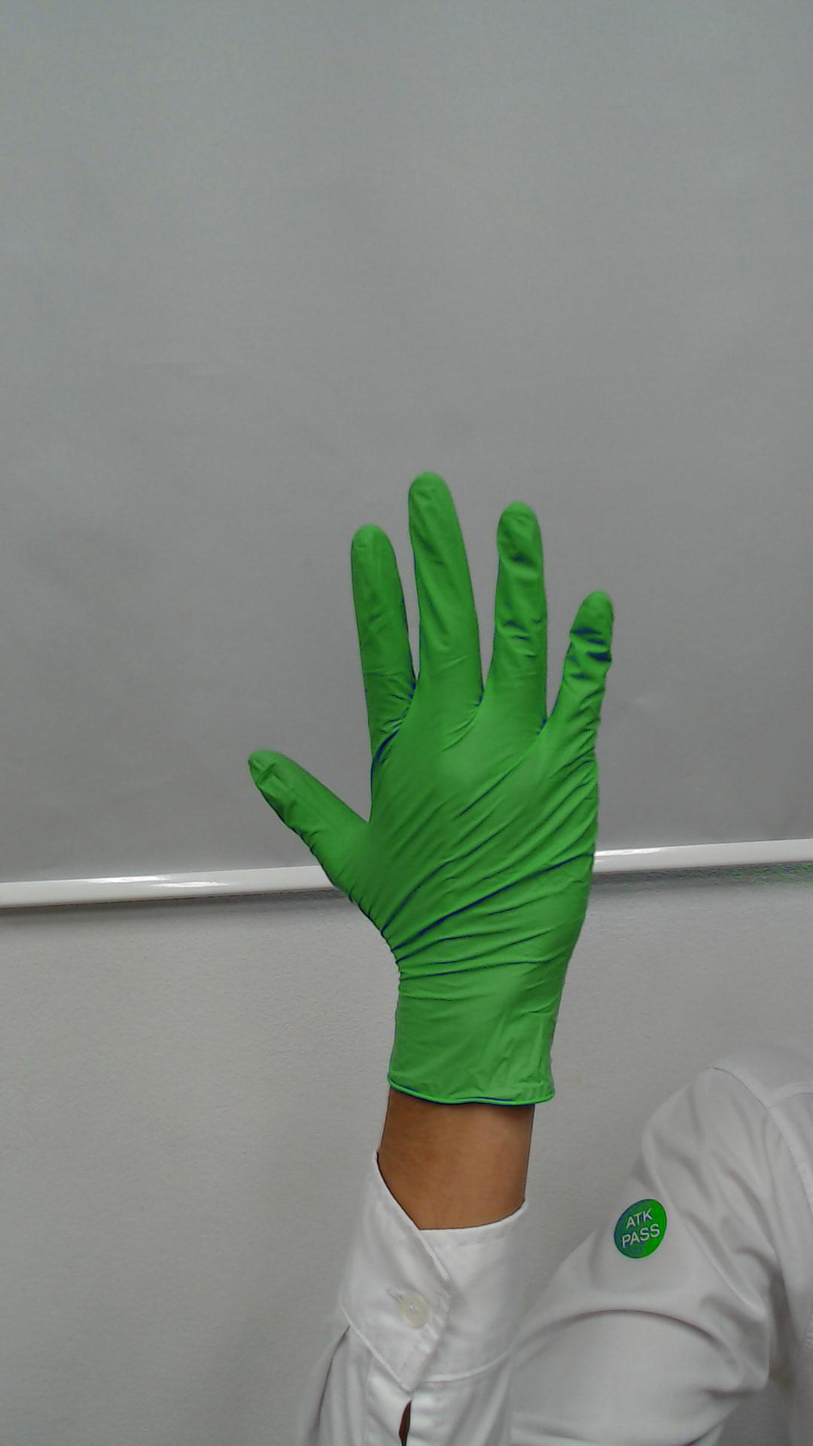gloves: (246, 459, 633, 941)
